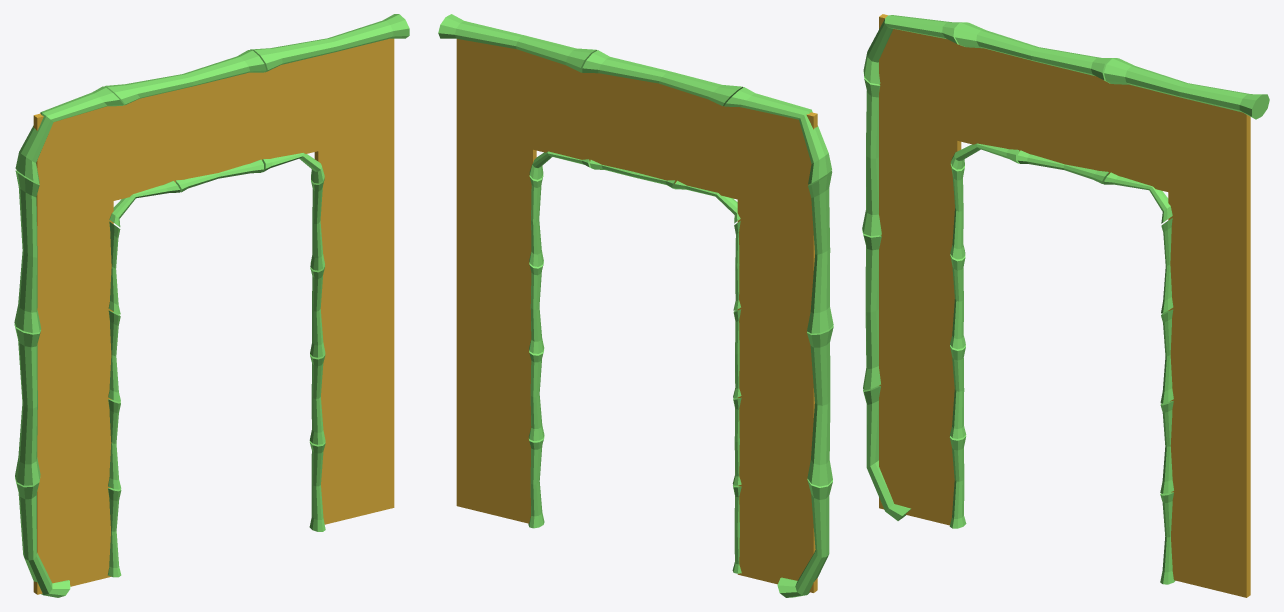
Rendered from Bamboo Door.fbx.
The picture shows the model from 3 angles, left to right: view 1: azimuth 30°, elevation 25°; view 2: azimuth 150°, elevation 25°; view 3: azimuth 330°, elevation 25°; orthographic projection. The views are drawn at different scales.
Visible parts, largest first — view 1: Bamboo Door; view 2: Bamboo Door; view 3: Bamboo Door.
Part boxes in pixels (x1,y1,x2,y2): Bamboo Door: [14, 14, 409, 597]; Bamboo Door: [438, 14, 833, 597]; Bamboo Door: [862, 14, 1269, 597].
Size of the model in its own units: 108 by 133 by 8.46.
